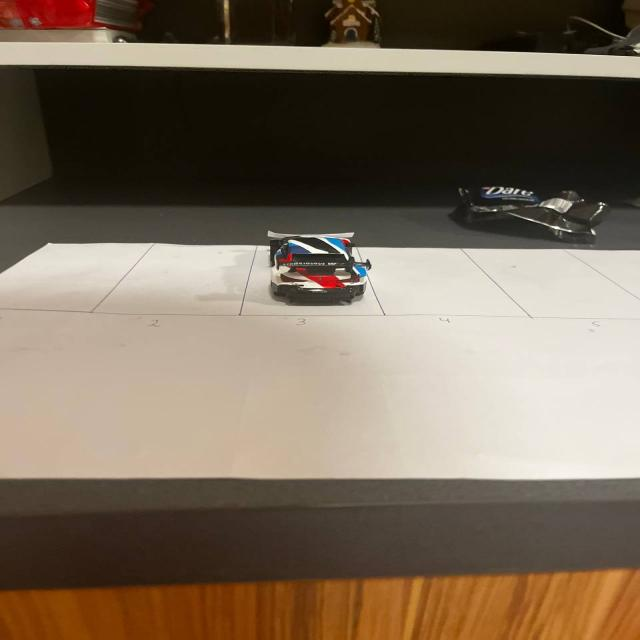cars: (235, 219, 390, 322)
